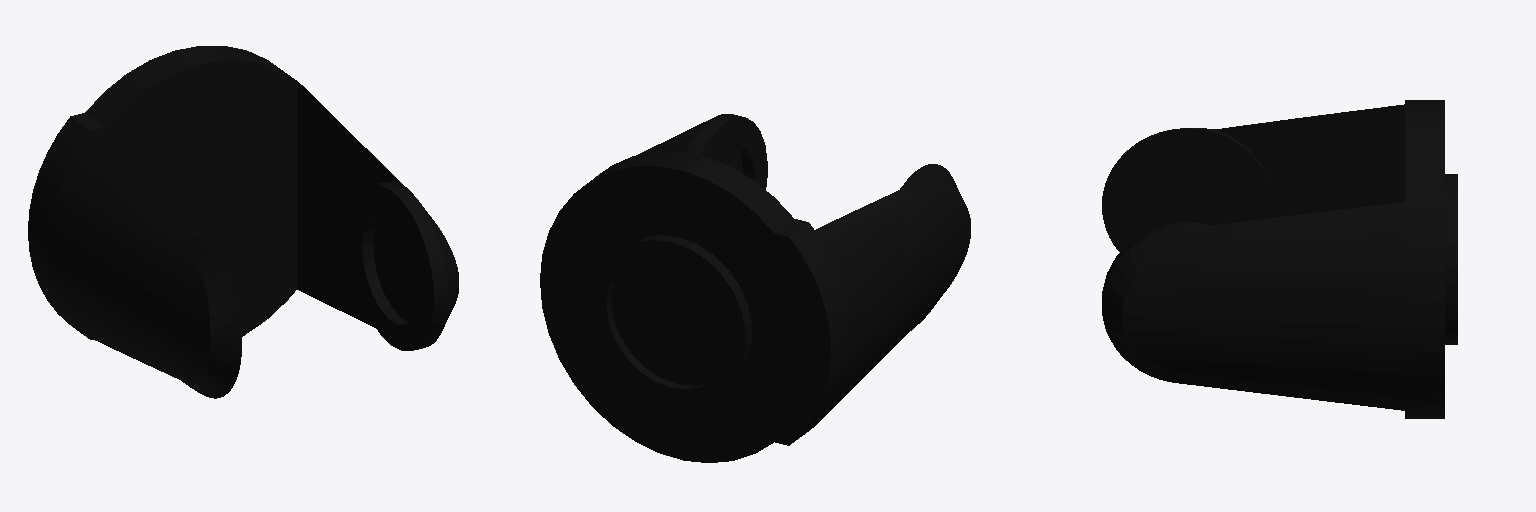
File: Hip_roll_right.obj
3 views of the same model, side by side, from view 1: azimuth 30°, elevation 25°; view 2: azimuth 150°, elevation 25°; view 3: azimuth 270°, elevation 25° (orthographic).
Parts seen in each view (by area): view 1: Hip_Roll_Right; view 2: Hip_Roll_Right; view 3: Hip_Roll_Right.
Boxes of the visible parts, box(x1,y1,x2,y2) form: Hip_Roll_Right: box(28, 46, 458, 398); Hip_Roll_Right: box(540, 114, 970, 462); Hip_Roll_Right: box(1102, 100, 1457, 418).
Bounding box in the file's own units: 0.1005 × 0.0954 × 0.1064.